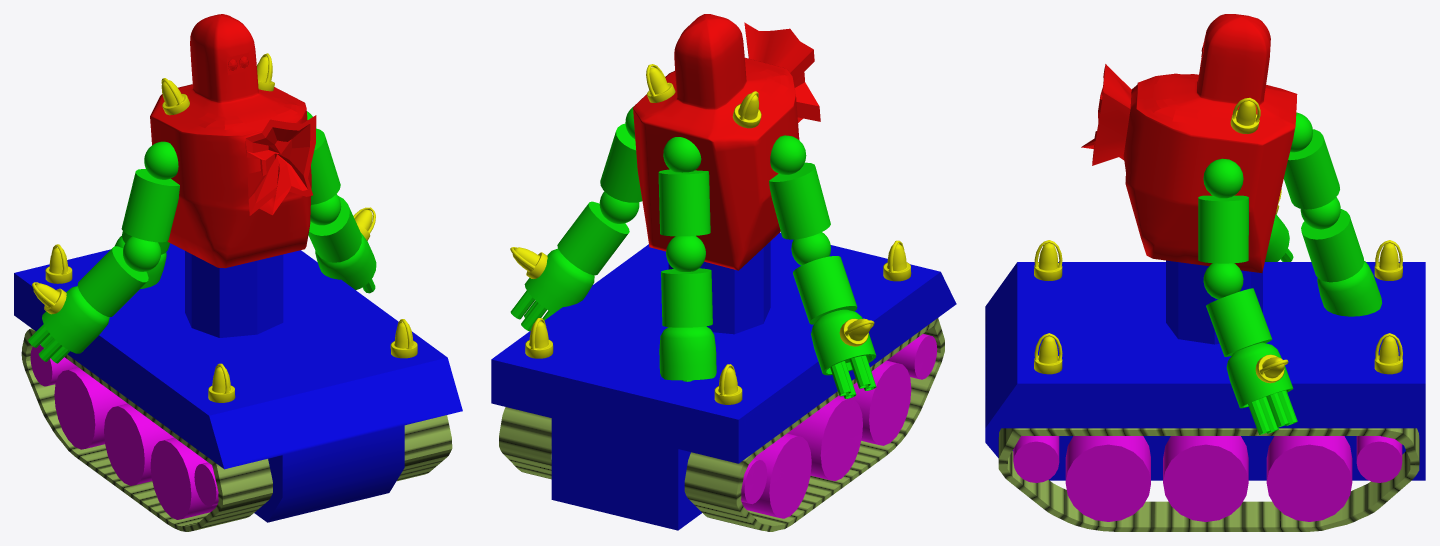
Rendered from ShamrockBotDead.fbx.
3 renders of one model, left to right at view 1: azimuth 30°, elevation 25°; view 2: azimuth 150°, elevation 25°; view 3: azimuth 270°, elevation 25°, orthographic. The views are drawn at different scales.
Parts seen in each view (by area): view 1: Body1, Torso1, R_Treads, R_UpperArm, R_LowerArm, R_MinigunHolder, L_Treads, L_LowerArm, L_MinigunHolder, L_UpperArm, R_Shoulder, R_Elbow (+8 smaller); view 2: Body1, Torso1, R_Treads, R_UpperArm, R_UpperArm1, L_Treads, L_LowerArm, M_MinigunHolder, R_LowerArm1, R_LowerArm, L_MinigunHolder, R_MinigunHolder (+15 smaller); view 3: Body1, L_Treads, Torso1, L_UpperArm, R_UpperArm1, R_LowerArm1, L_LowerArm, L_MinigunHolder, M_MinigunHolder, L_Minigun, L_Shoulder, L_Elbow (+9 smaller).
Boxes of the visible parts, x1=… form: Body1: x1=14, y1=243, x2=462, y2=522; Torso1: x1=150, y1=14, x2=316, y2=268; R_Treads: x1=21, y1=328, x2=272, y2=531; R_UpperArm: x1=121, y1=169, x2=179, y2=242; R_LowerArm: x1=77, y1=246, x2=148, y2=316; R_MinigunHolder: x1=42, y1=286, x2=109, y2=353; L_Treads: x1=397, y1=415, x2=452, y2=481; L_LowerArm: x1=308, y1=196, x2=361, y2=262; L_MinigunHolder: x1=315, y1=232, x2=376, y2=289; L_UpperArm: x1=311, y1=128, x2=340, y2=204; R_Shoulder: x1=144, y1=141, x2=178, y2=179; R_Elbow: x1=123, y1=236, x2=161, y2=271; Body1: x1=491, y1=232, x2=956, y2=530; Torso1: x1=633, y1=14, x2=820, y2=270; R_Treads: x1=684, y1=318, x2=944, y2=531; R_UpperArm: x1=769, y1=162, x2=830, y2=239; R_UpperArm1: x1=658, y1=169, x2=710, y2=236; L_Treads: x1=499, y1=407, x2=551, y2=479; L_LowerArm: x1=557, y1=201, x2=629, y2=275; M_MinigunHolder: x1=659, y1=326, x2=716, y2=380; R_LowerArm1: x1=661, y1=268, x2=712, y2=327; R_LowerArm: x1=793, y1=256, x2=857, y2=324; L_MinigunHolder: x1=524, y1=248, x2=594, y2=313; R_MinigunHolder: x1=811, y1=309, x2=876, y2=375; Body1: x1=985, y1=260, x2=1425, y2=480; L_Treads: x1=998, y1=428, x2=1419, y2=531; Torso1: x1=1081, y1=14, x2=1297, y2=272; L_UpperArm: x1=1198, y1=195, x2=1248, y2=263; R_UpperArm1: x1=1283, y1=129, x2=1339, y2=209; R_LowerArm1: x1=1301, y1=209, x2=1364, y2=282; L_LowerArm: x1=1206, y1=288, x2=1272, y2=356; L_MinigunHolder: x1=1226, y1=342, x2=1293, y2=408; M_MinigunHolder: x1=1317, y1=261, x2=1381, y2=316; L_Minigun: x1=1248, y1=390, x2=1297, y2=434; L_Shoulder: x1=1203, y1=158, x2=1243, y2=198; L_Elbow: x1=1203, y1=263, x2=1243, y2=299.
Size of the model in its own units: 4.9 by 5.92 by 5.17.
